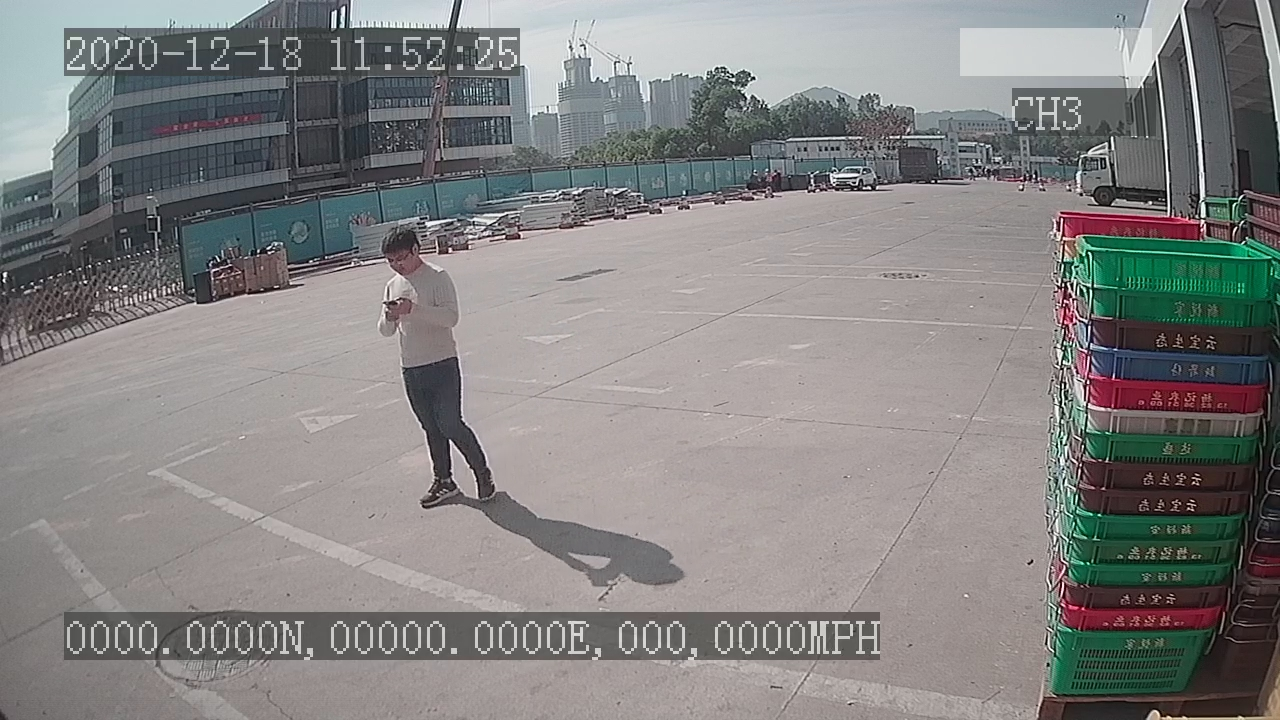person: (365, 222, 501, 511)
